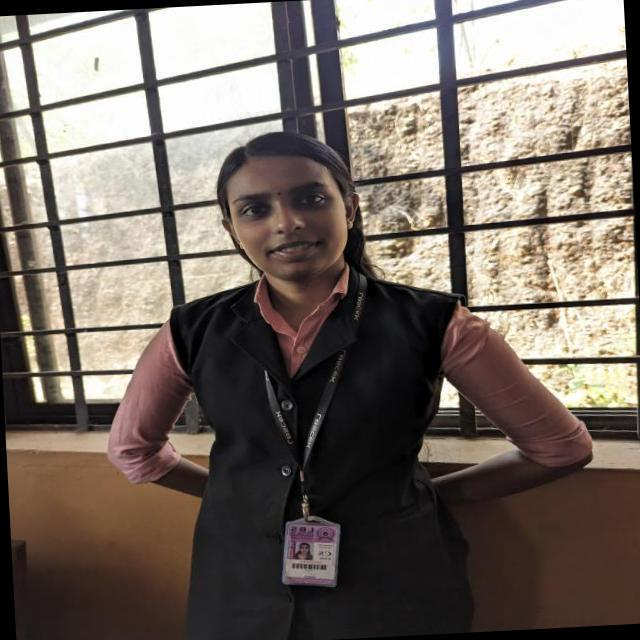id_card: (248, 268, 372, 588)
